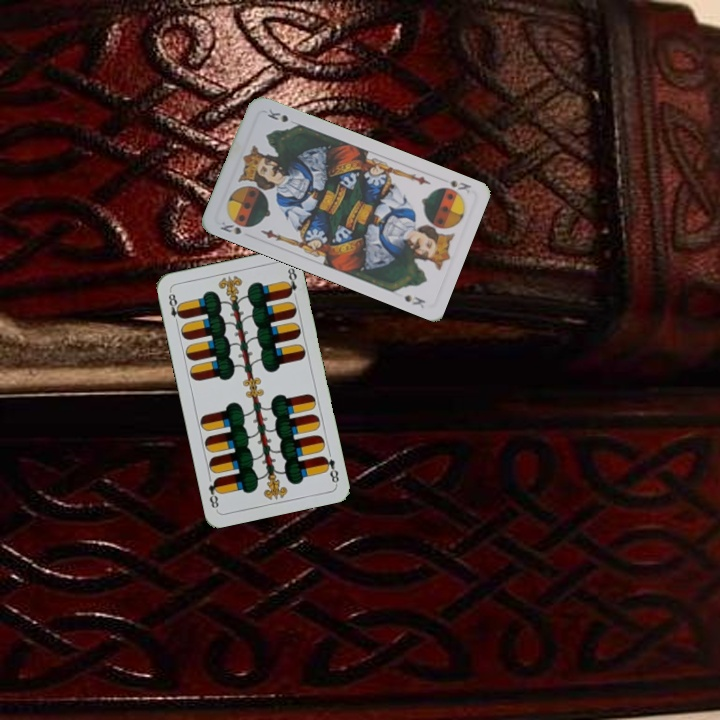E8: (164, 287, 185, 328), (318, 452, 342, 486)
SK: (436, 176, 474, 199), (215, 217, 244, 237)
